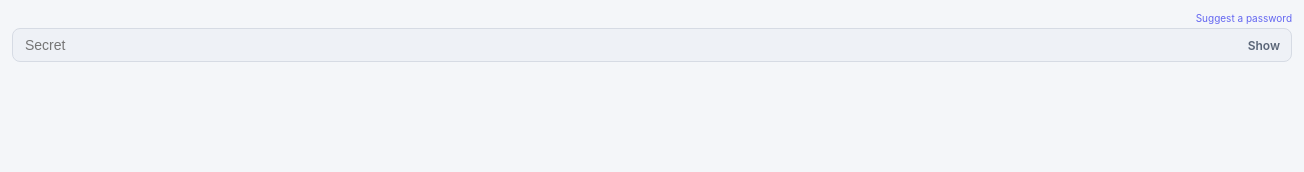
PasswordInput › offers a shorter sign-in password, with or without a host to tell
Click the button "Suggest a password" at (1244, 18), box left=1196, top=12, right=1292, bottom=24
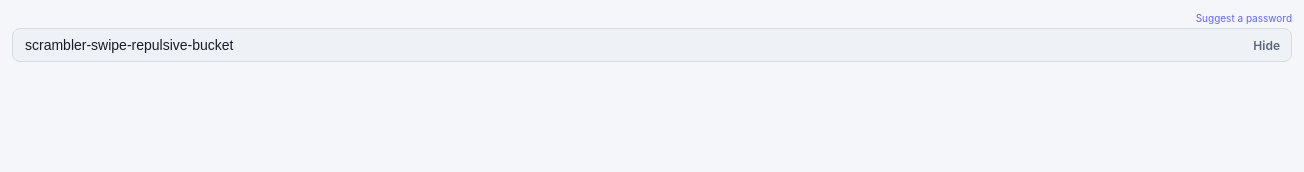
Check: the field with placeholder "Secret" is not empty, box left=12, top=28, right=1292, bottom=62
